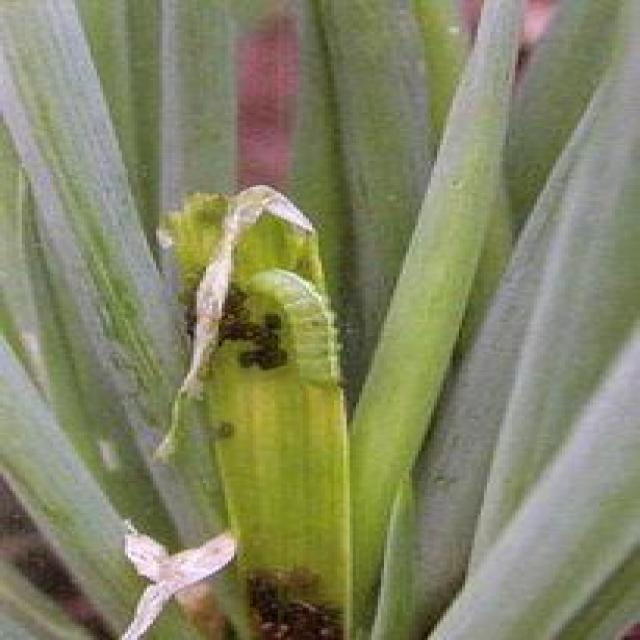BeetArmyWorm-Larva-: (236, 259, 363, 402)
